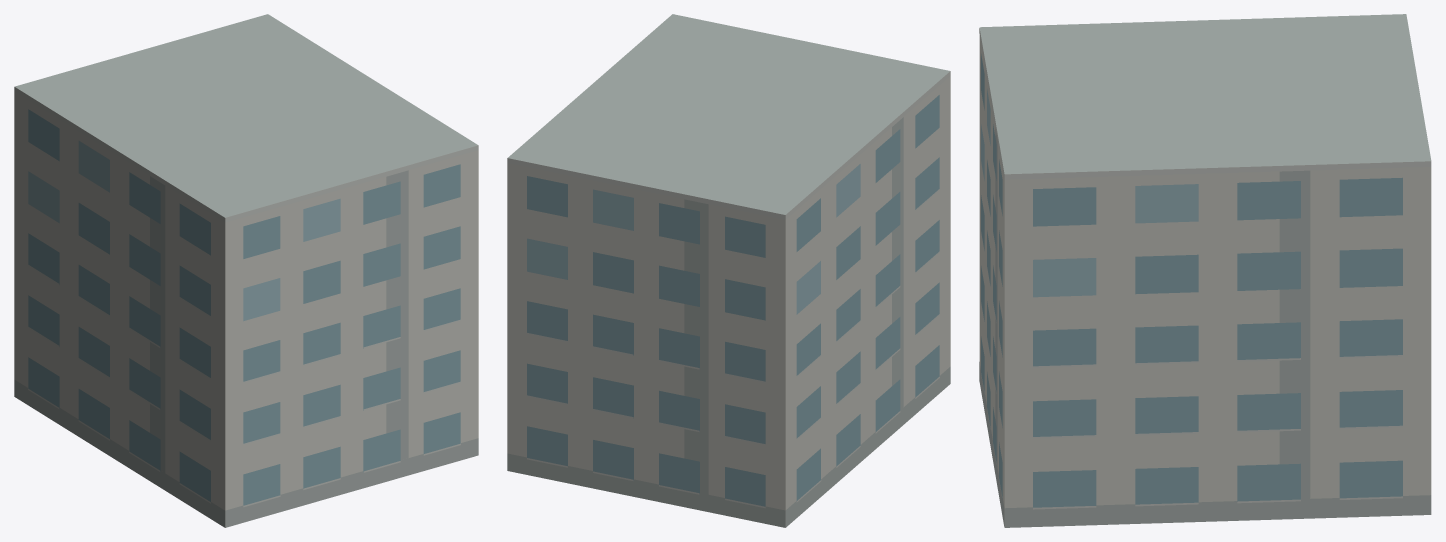
The model's file is residential-b098b7b5-0ca0-40bc-af9d-30b4687c4e0a.glb.
3 renders of one model, left to right at view 1: azimuth 30°, elevation 25°; view 2: azimuth 150°, elevation 25°; view 3: azimuth 270°, elevation 25°, orthographic. The views are drawn at different scales.
Visible parts, largest first — view 1: residential-b098b7b5-0ca0-40bc-af9d-30b4687c4e0a.tmp; view 2: residential-b098b7b5-0ca0-40bc-af9d-30b4687c4e0a.tmp; view 3: residential-b098b7b5-0ca0-40bc-af9d-30b4687c4e0a.tmp.
Part boxes in pixels (x1,y1,x2,y2): residential-b098b7b5-0ca0-40bc-af9d-30b4687c4e0a.tmp: (14, 14, 478, 527); residential-b098b7b5-0ca0-40bc-af9d-30b4687c4e0a.tmp: (507, 14, 950, 527); residential-b098b7b5-0ca0-40bc-af9d-30b4687c4e0a.tmp: (979, 14, 1431, 527).
Bounding box in the file's own units: 14.84 × 15.25 × 17.68.
